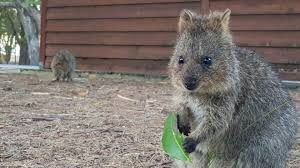quokka: (153, 6, 300, 168)
